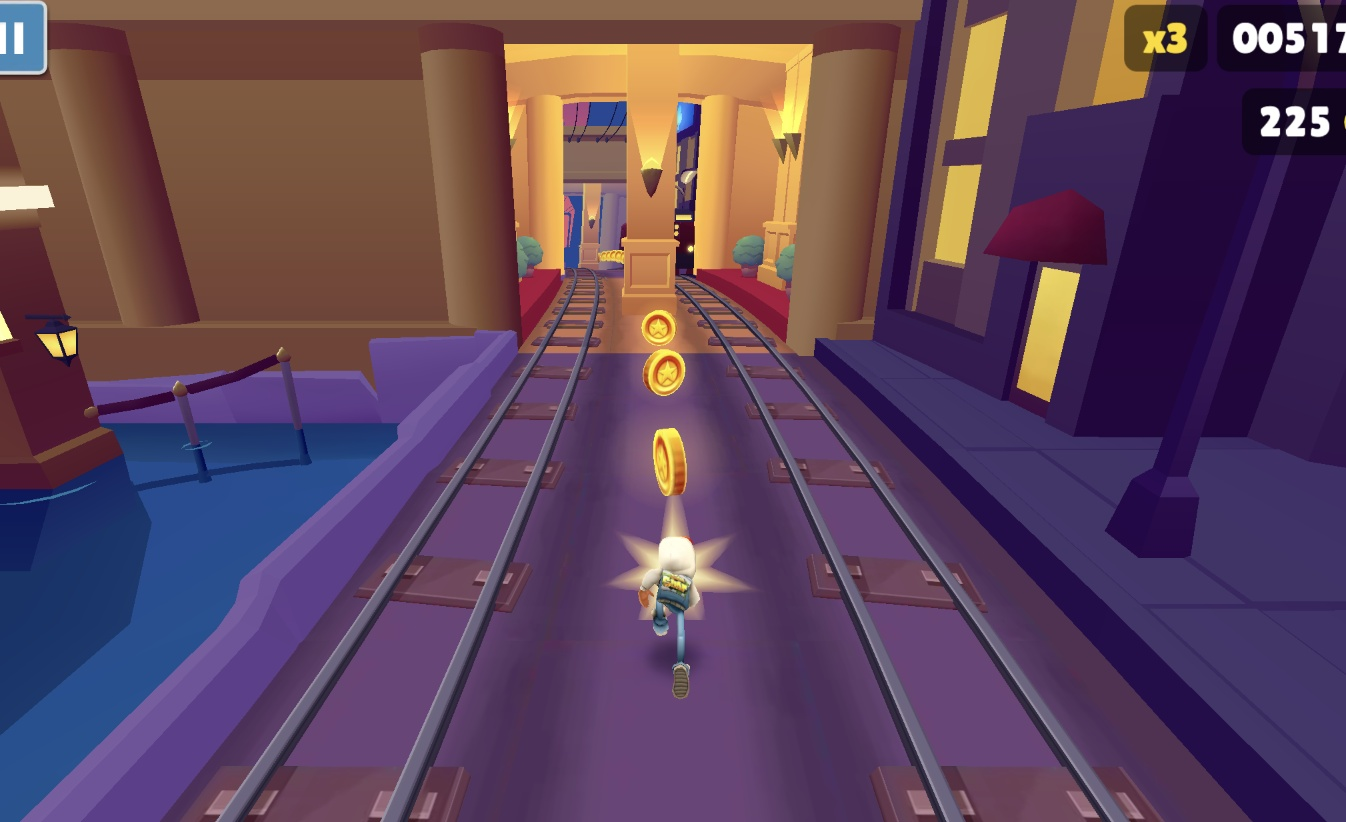pillar: (620, 62, 678, 300), (580, 180, 606, 268)
train: (676, 210, 696, 272)
